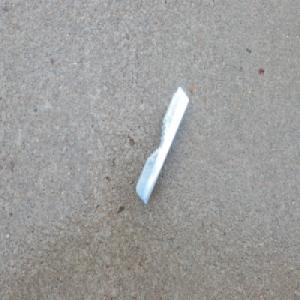ClampPart: (135, 86, 189, 205)
